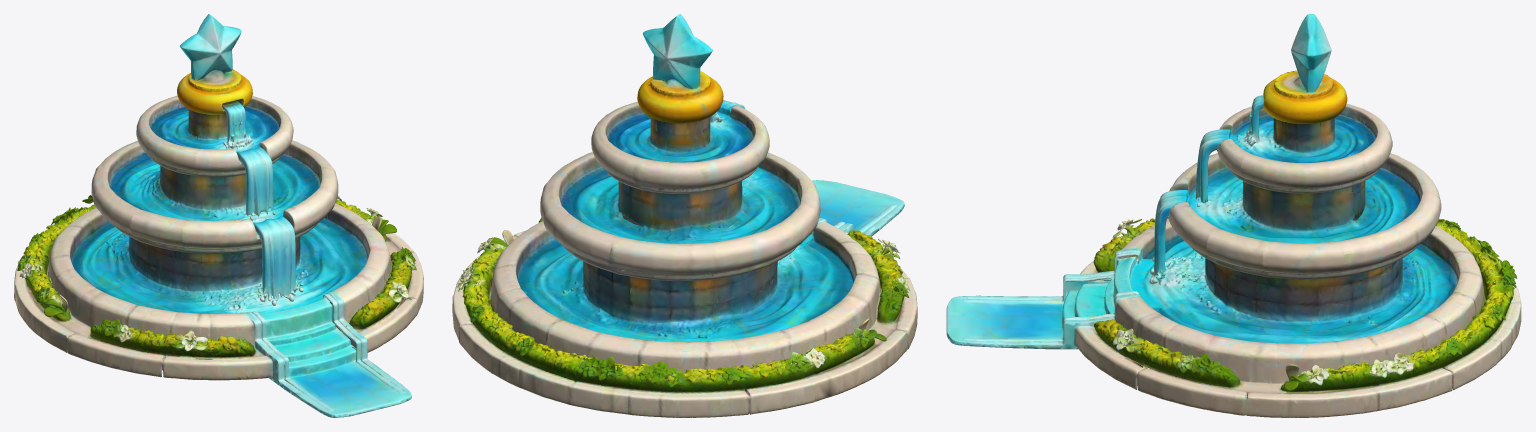
The model's file is Meshy_AI_fountain_0323123957_texture_opt.glb.
3 renders of one model, left to right at view 1: azimuth 30°, elevation 25°; view 2: azimuth 150°, elevation 25°; view 3: azimuth 270°, elevation 25°, orthographic. The views are drawn at different scales.
Bounding box in the file's own units: 1.51 × 1.13 × 1.9.
Materials: 1 (1 with a texture image).
